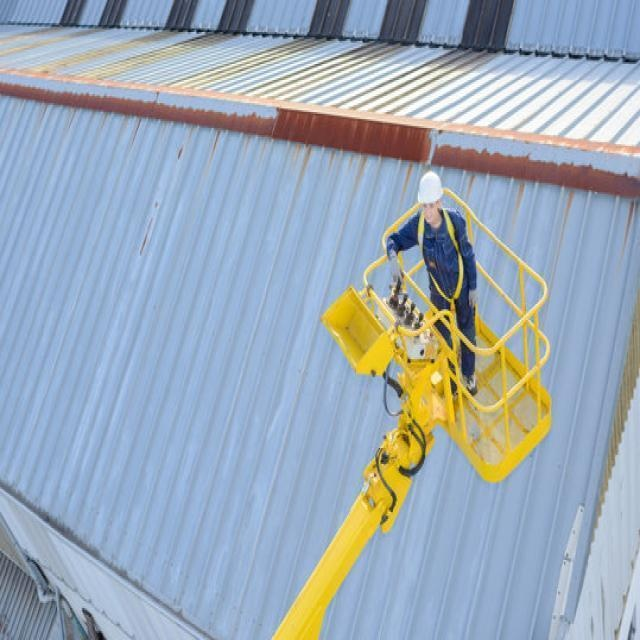Arnes_seguridad: (419, 207, 467, 314)
